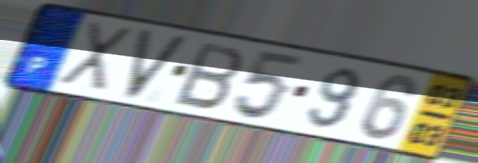5: (230, 47, 309, 122)
6: (359, 73, 418, 141)
9: (308, 65, 362, 131)
B: (172, 39, 247, 112)
V: (123, 26, 195, 103)
X: (54, 18, 137, 96)
